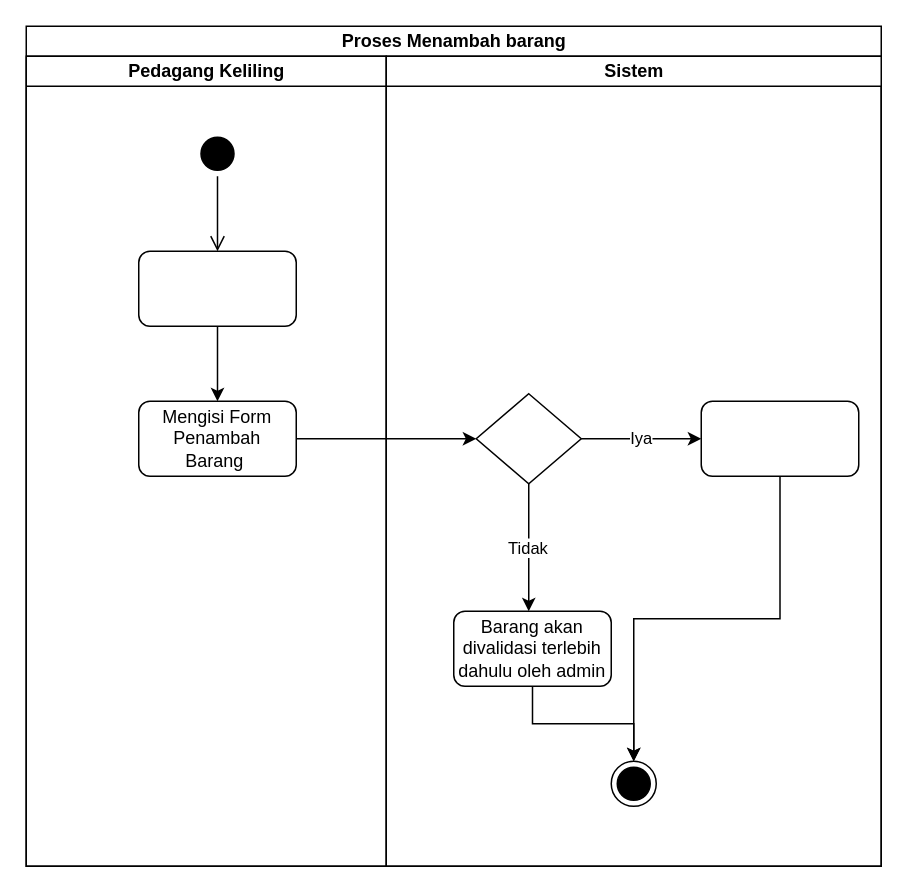
The diagram is 908 pixels wide and 893 high, and some of its shapes have lost their labels. The shapes that lost their labels are listed below. From the top down, each one's centre as x and y in pixels, then its label:
At pixel 216 288: "Menekan Tombol Tambah produk".
At pixel 528 438: "Apakah Barang ada ?".
At pixel 779 438: "Tidak Dapat Mengisi Ke database ?".
